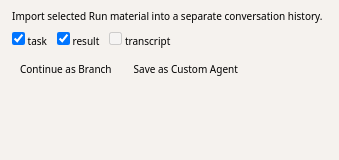
Test case: AgentRunActions › saves an ephemeral snapshot as a Draft through the selected Backend endpoint
Click the button "Save as Custom Agent" at (186, 70), box top-left (126, 57), bottom-right (246, 82)
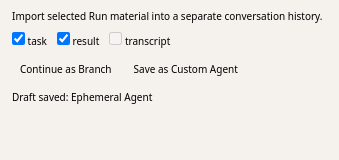
Check: the text "Draft saved: Ephemeral Agent" is shown, box top-left (12, 90), bottom-right (152, 104)
